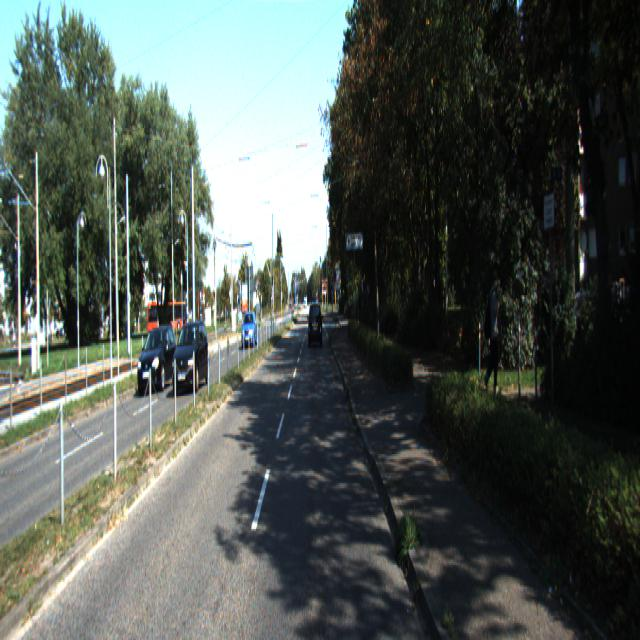Car: (138, 325, 179, 394), (172, 318, 210, 392), (309, 301, 323, 349), (242, 311, 257, 349)
